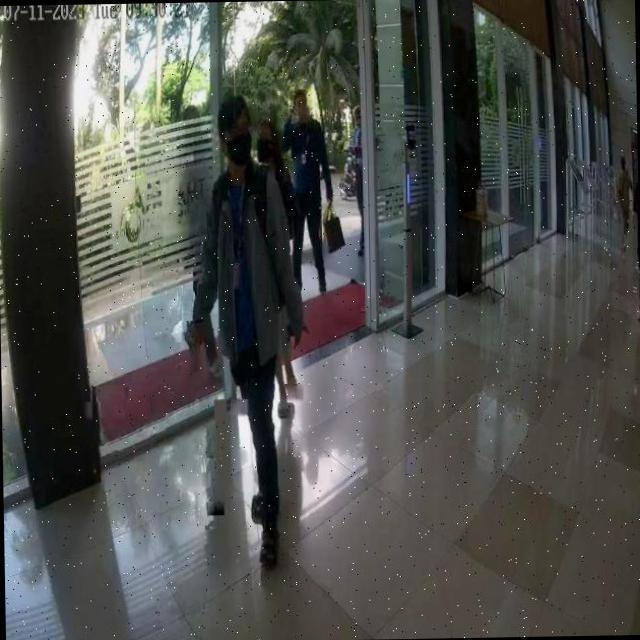person: (205, 94, 289, 571), (282, 83, 330, 299)
